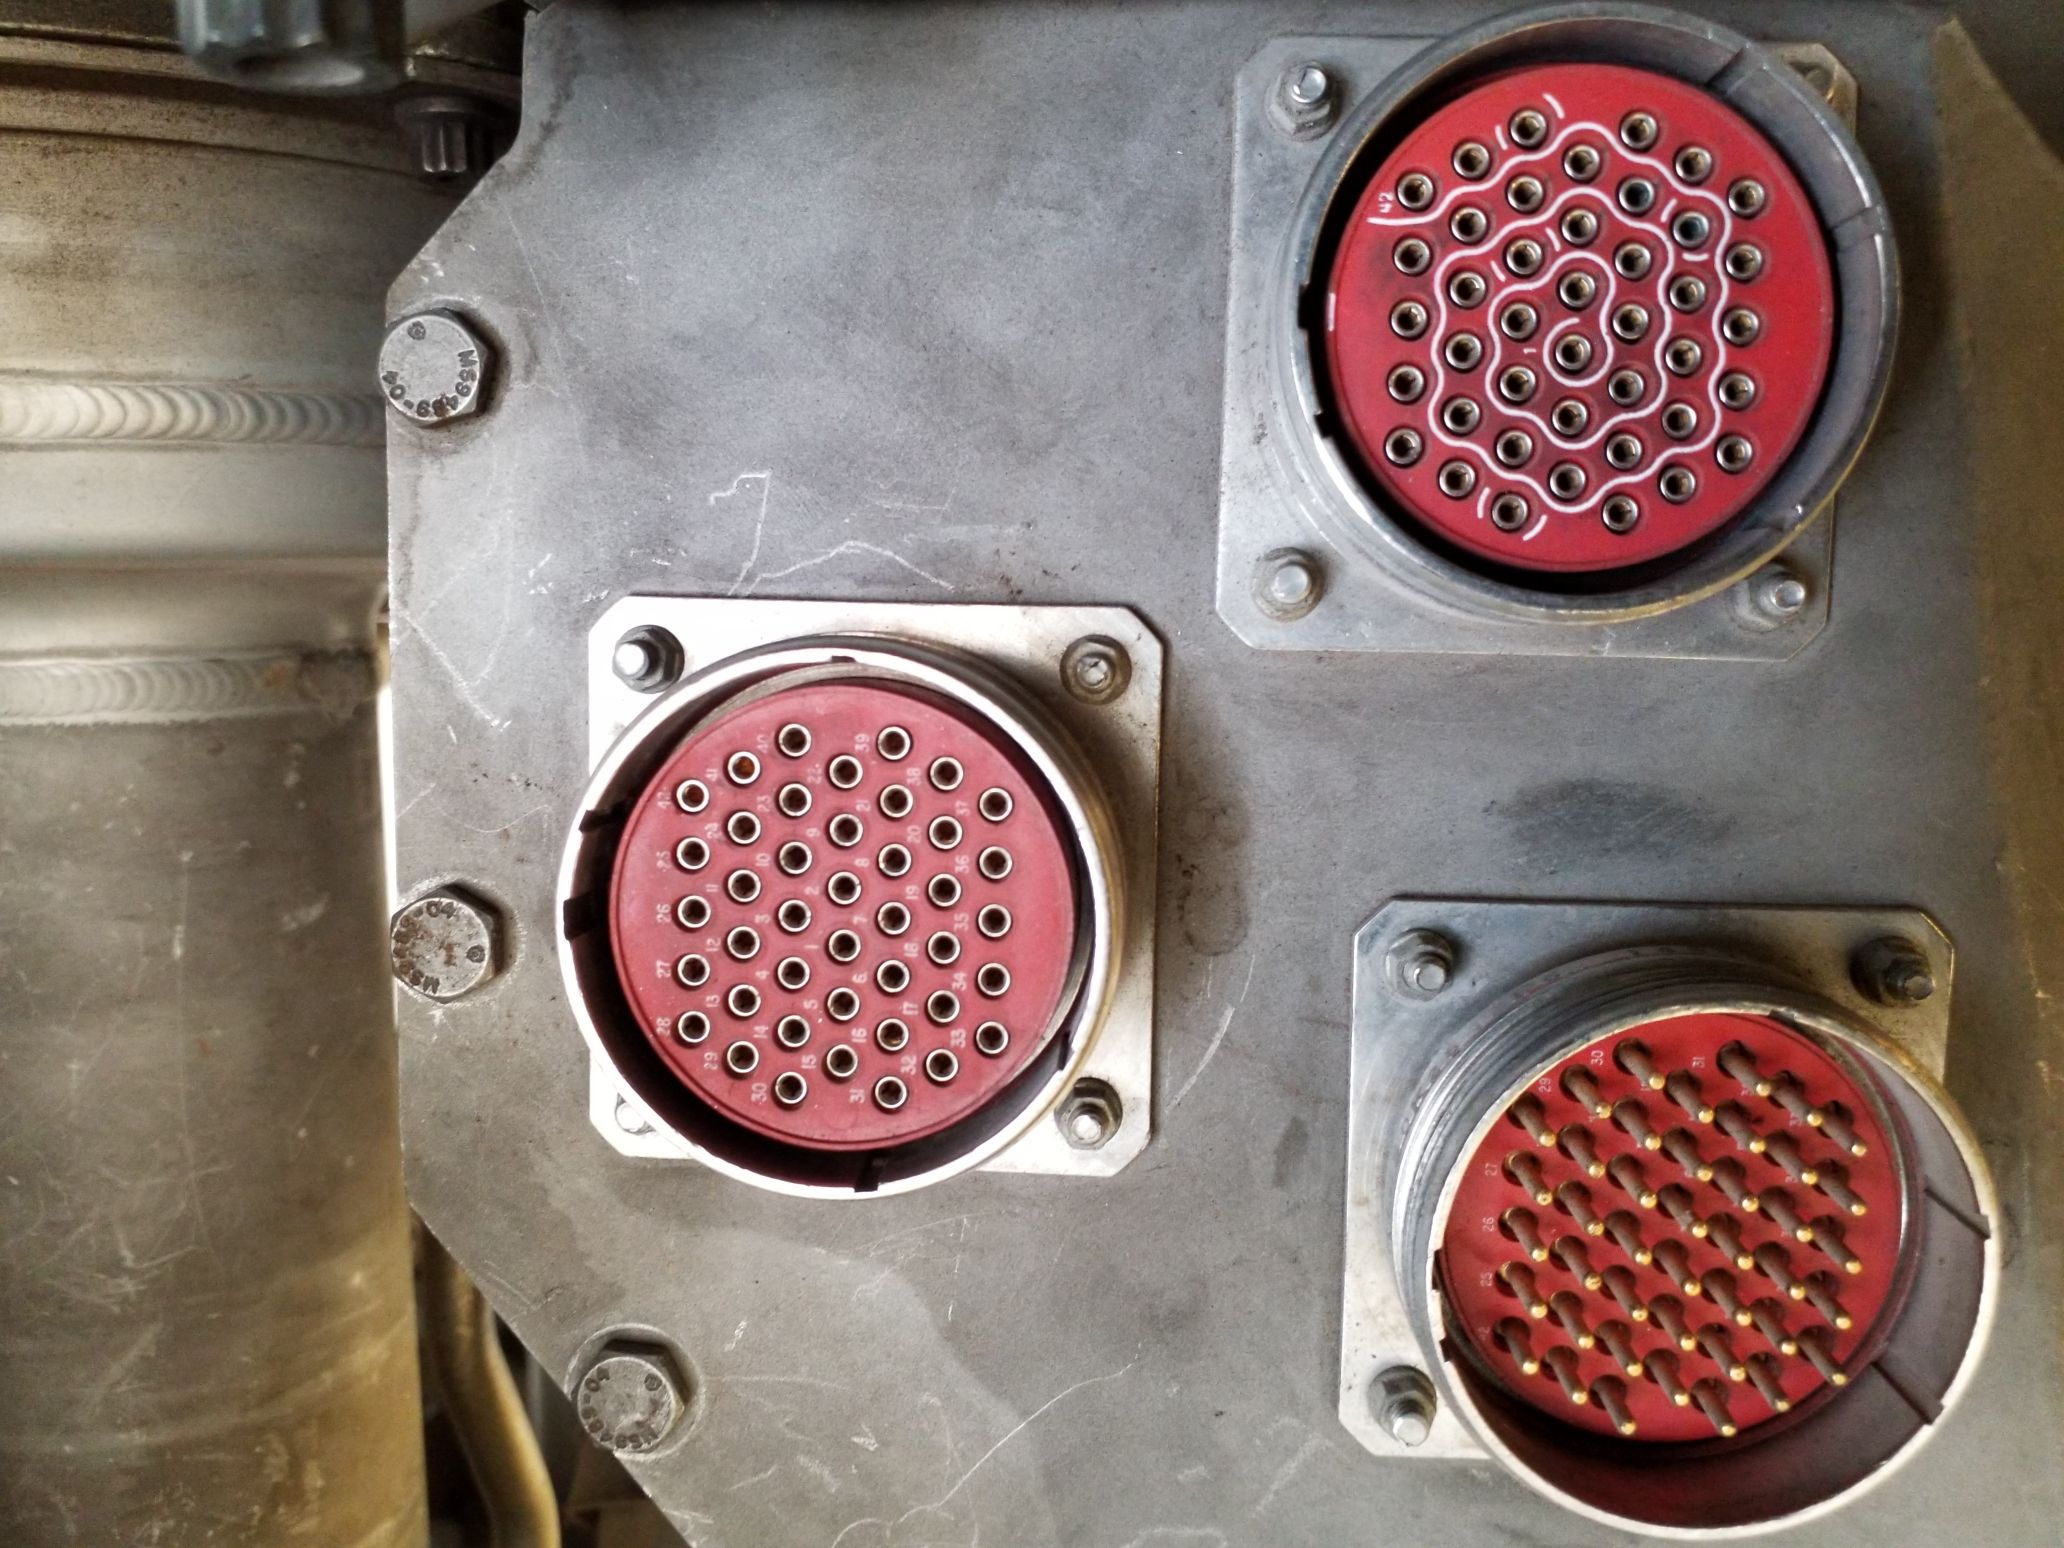inletnumbers: (561, 594, 1134, 1203)
inletround: (1253, 11, 1906, 633)
outlet: (1364, 909, 2010, 1537)
